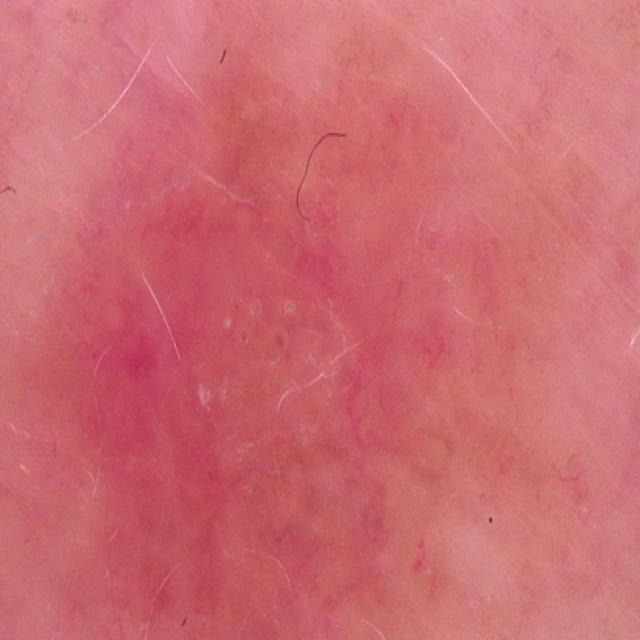Keratosis: (29, 140, 483, 640)
